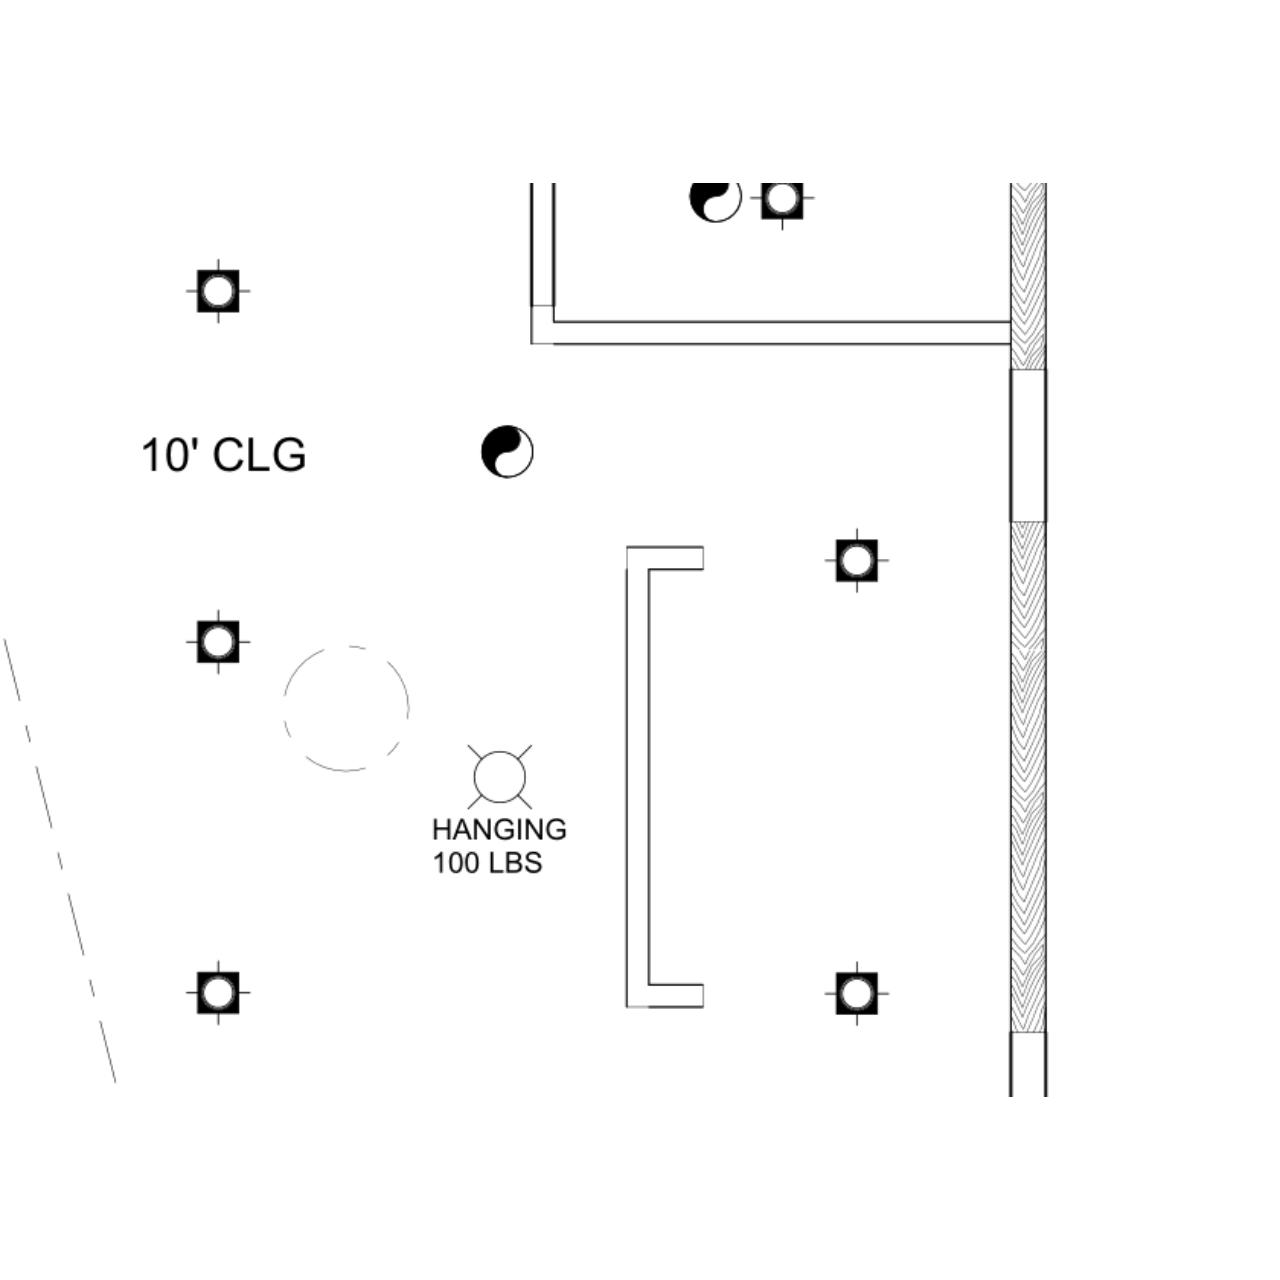Ceiling Light: (463, 745, 531, 806)
ress_can_light: (185, 606, 253, 675), (185, 958, 252, 1028), (184, 258, 252, 325), (824, 960, 890, 1026), (824, 529, 890, 593), (747, 184, 813, 231)
